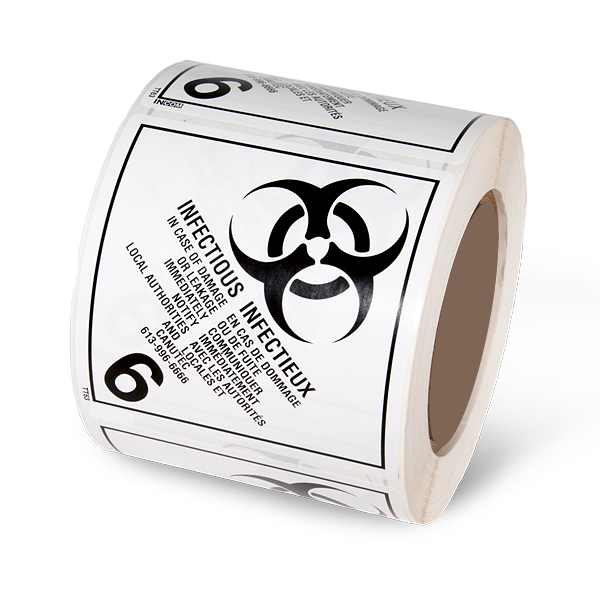InfectiousSubstance: (88, 125, 438, 472)
